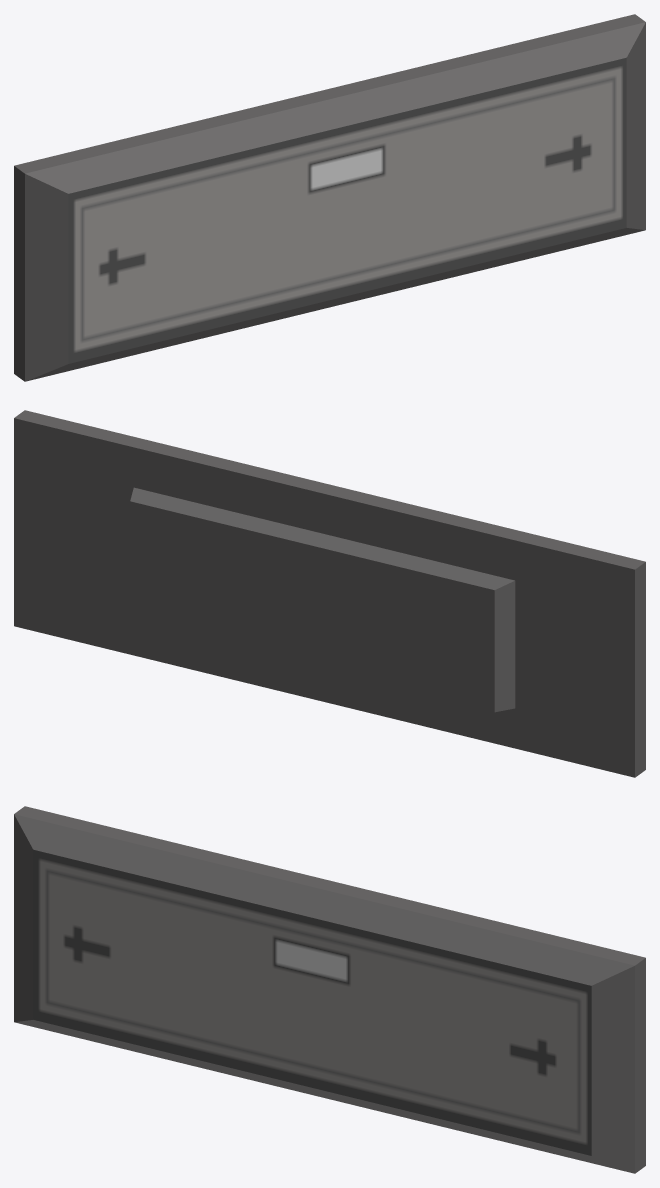
The model's file is Prop_SafeDepositBox_Cover_02.glb.
The picture shows the model from 3 angles, top to bottom: view 1: azimuth 30°, elevation 25°; view 2: azimuth 150°, elevation 25°; view 3: azimuth 330°, elevation 25°; orthographic projection.
Parts seen in each view (by area): view 1: SM_Prop_SafeDepositBox_Cover_02; view 2: SM_Prop_SafeDepositBox_Cover_02; view 3: SM_Prop_SafeDepositBox_Cover_02.
Boxes of the visible parts, bbox=[...] form: SM_Prop_SafeDepositBox_Cover_02: bbox=[14, 14, 645, 381]; SM_Prop_SafeDepositBox_Cover_02: bbox=[14, 410, 645, 777]; SM_Prop_SafeDepositBox_Cover_02: bbox=[14, 806, 645, 1173].
Bounding box in the file's own units: 0.5966 × 0.191 × 0.0585.
1 material, 1 textured.
